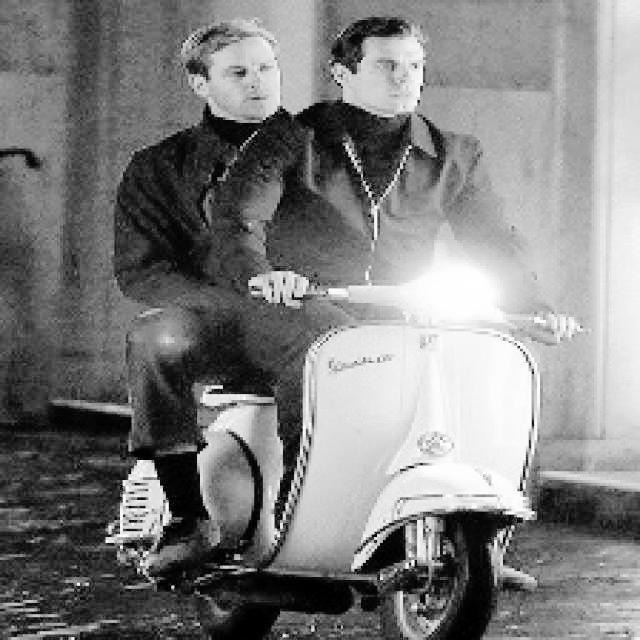Bike: (212, 294, 565, 634)
